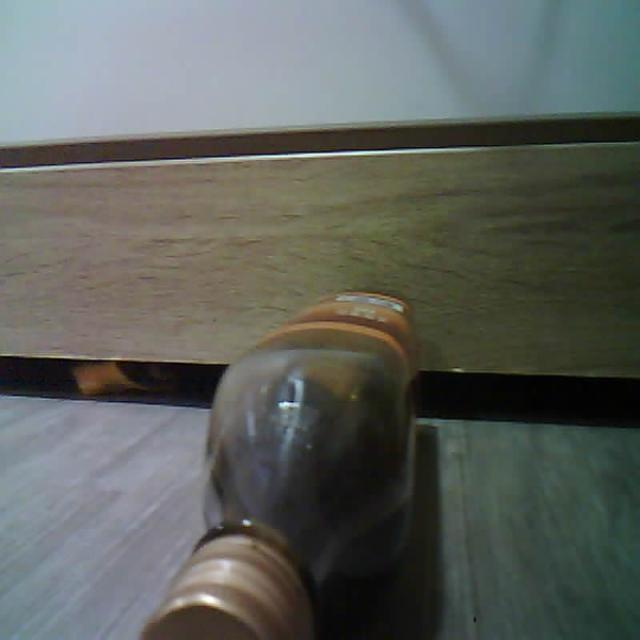bottle: (141, 292, 416, 639)
